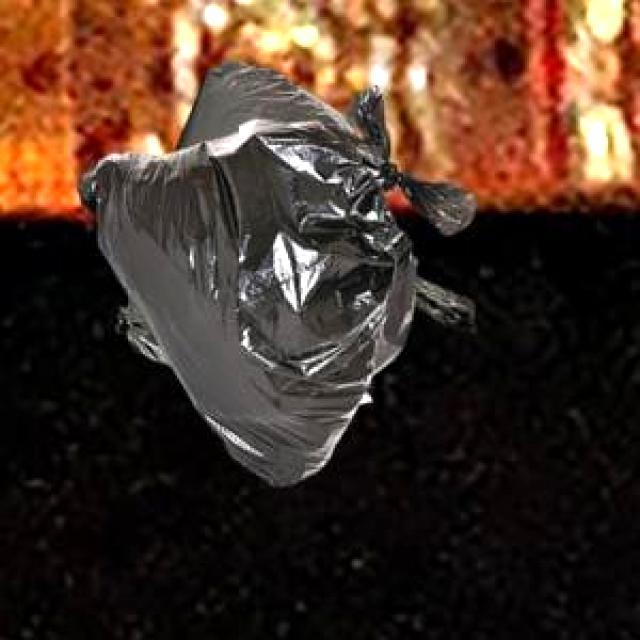Garbage_Bag: (75, 84, 472, 483), (110, 58, 472, 362)
